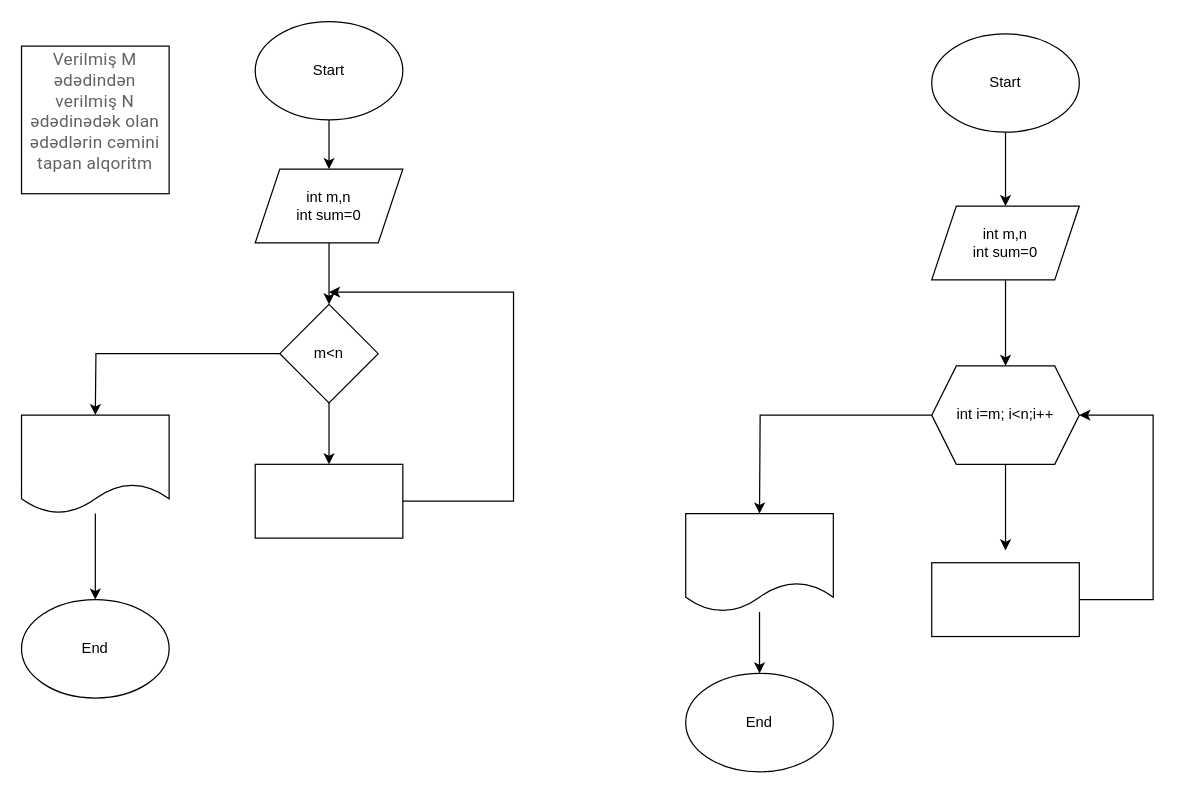
Some shapes in this 1184 by 793 pixel diagram are drawn without their labels. The centre of each missing label's shape, as x and y in pixels:
print sum: (758,562)
sum: (94,464)
sum+=i: (1004,599)
sum+=m m++: (328,500)
